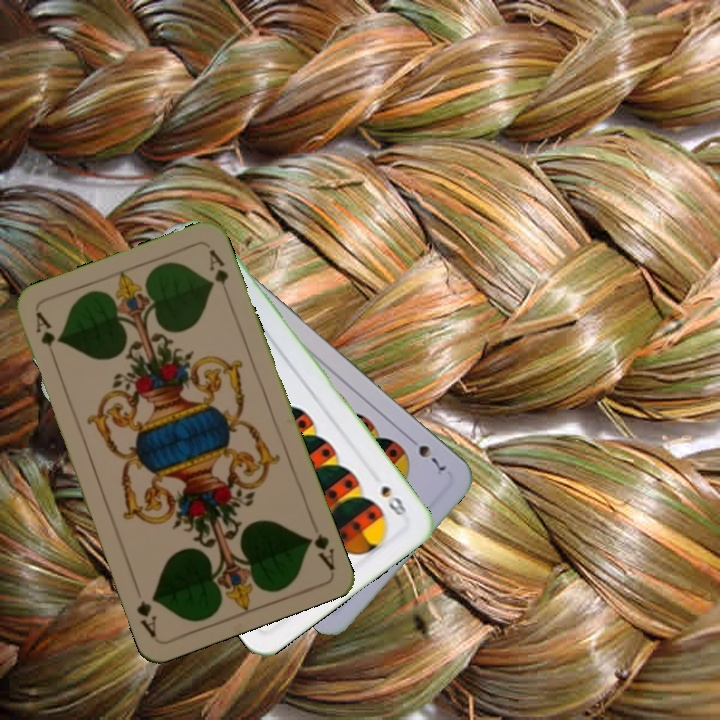GA: (31, 308, 60, 366), (303, 530, 337, 572)
S7: (403, 431, 448, 474)
S8: (377, 481, 410, 519)
